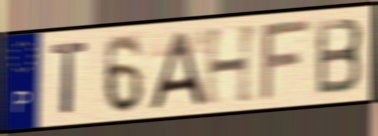6: (102, 32, 144, 117)
A: (146, 28, 208, 112)
B: (314, 15, 366, 98)
F: (258, 16, 314, 104)
H: (202, 21, 261, 109)
T: (49, 39, 90, 117)
